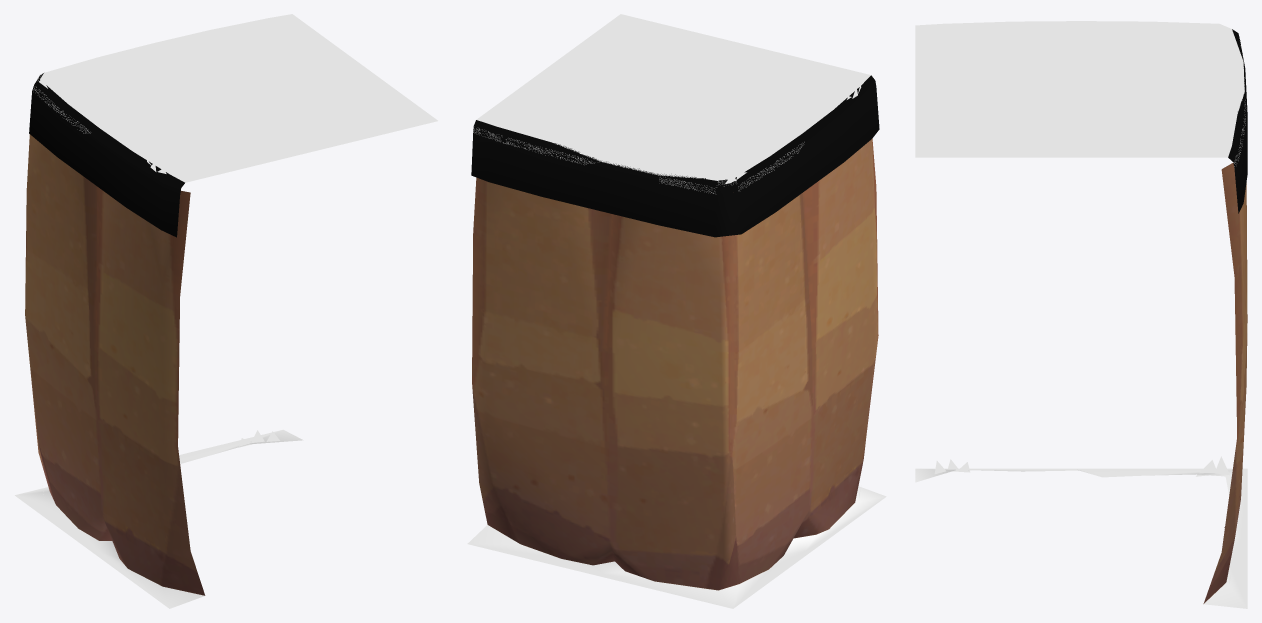
3 renders of one model, left to right at view 1: azimuth 30°, elevation 25°; view 2: azimuth 150°, elevation 25°; view 3: azimuth 270°, elevation 25°, orthographic. The views are drawn at different scales.
Parts seen in each view (by area): view 1: Cliff__mCliff, GrassT__mGrass, GrassOP__mGrassCliffXlu, GrassB__mGrass; view 2: Cliff__mCliff, GrassT__mGrass, GrassOP__mGrassCliffXlu, GrassB__mGrass, PGrassBA__mProcGrass; view 3: GrassT__mGrass, Cliff__mCliff, GrassB__mGrass, GrassOP__mGrassCliffXlu, PGrassBA__mProcGrass.
Part boxes in pixels (left/top/right/bottom): Cliff__mCliff: left=25, top=134, right=205, bottom=595; GrassT__mGrass: left=33, top=14, right=437, bottom=182; GrassOP__mGrassCliffXlu: left=29, top=73, right=184, bottom=237; GrassB__mGrass: left=15, top=429, right=303, bottom=608; Cliff__mCliff: left=472, top=138, right=878, bottom=590; GrassT__mGrass: left=474, top=14, right=870, bottom=193; GrassOP__mGrassCliffXlu: left=471, top=75, right=879, bottom=237; GrassB__mGrass: left=467, top=486, right=886, bottom=608; PGrassBA__mProcGrass: left=495, top=84, right=861, bottom=497; GrassT__mGrass: left=915, top=21, right=1245, bottom=166; Cliff__mCliff: left=1203, top=163, right=1247, bottom=603; GrassB__mGrass: left=915, top=468, right=1247, bottom=608; GrassOP__mGrassCliffXlu: left=1228, top=29, right=1247, bottom=213; PGrassBA__mProcGrass: left=934, top=71, right=1238, bottom=583.
Bounding box in the file's own units: 10 × 15.41 × 10.
4 materials, 1 textured.
